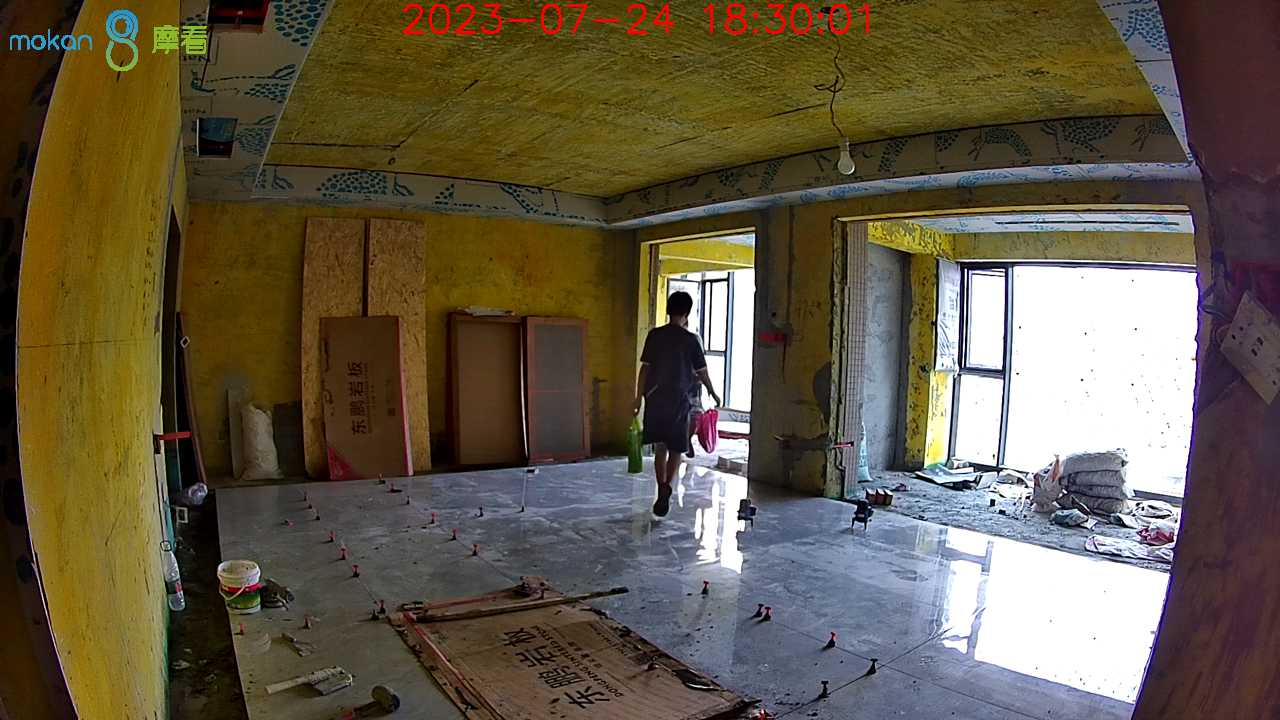people: (633, 288, 720, 523)
window: (956, 259, 1198, 499), (666, 263, 759, 412)
